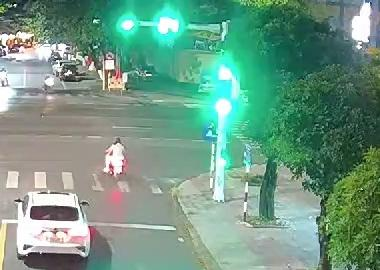green_light: (213, 63, 239, 117), (158, 14, 181, 37), (115, 15, 137, 35)
stop_line: (2, 215, 179, 232)
